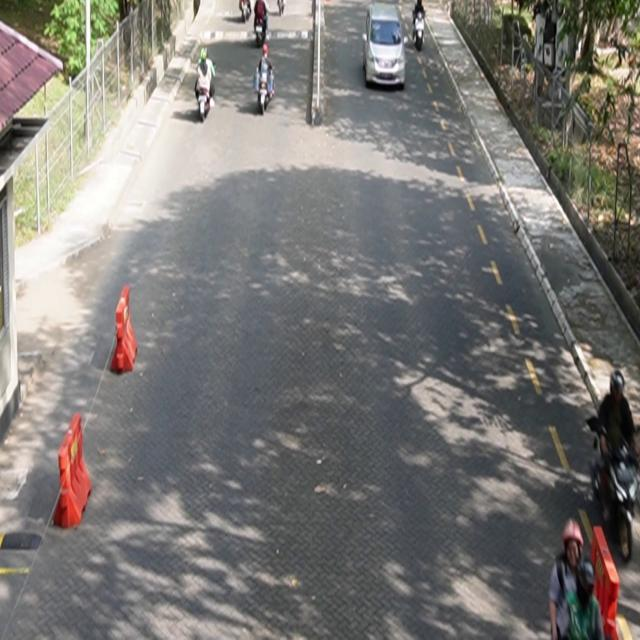car: (363, 3, 407, 90)
